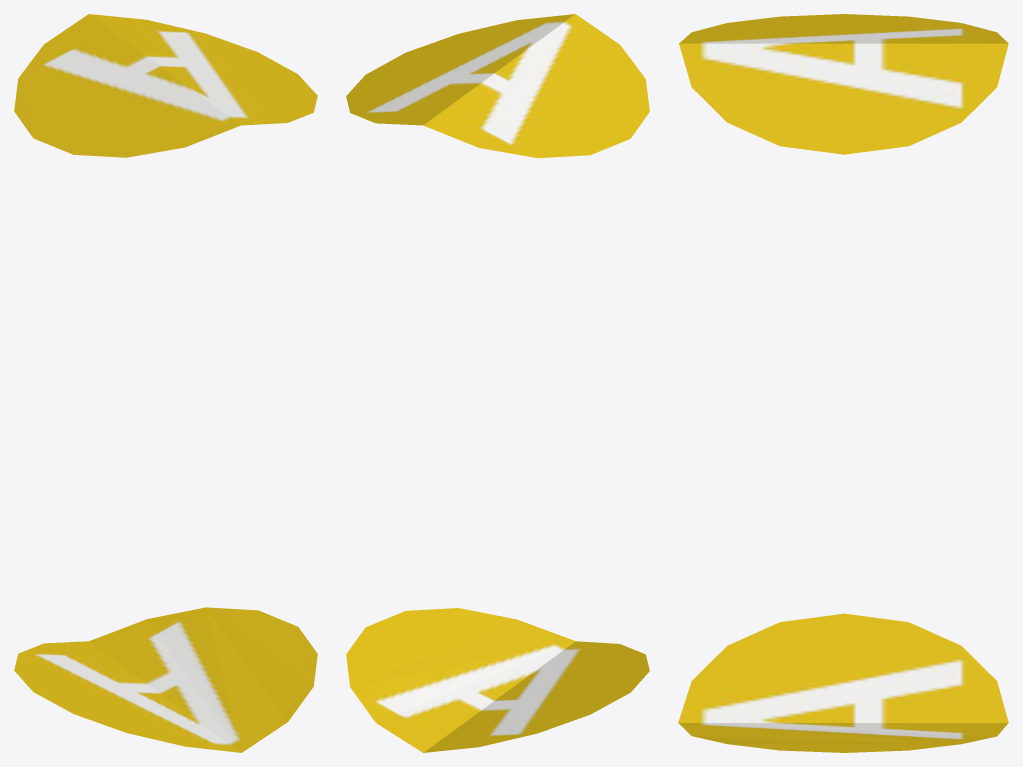
File: mp-3650-geode.glb
The picture shows the model from 3 angles, left to right: view 1: azimuth 30°, elevation 25°; view 2: azimuth 150°, elevation 25°; view 3: azimuth 270°, elevation 25°; orthographic projection. The views are drawn at different scales.
Parts seen in each view (by area): view 1: Node; view 2: Node; view 3: Node.
Part boxes in pixels (x1,y1,x2,y2): Node: (14, 14, 317, 752); Node: (346, 14, 649, 752); Node: (678, 14, 1008, 752).
Bounding box in the file's own units: 0.1247 × 0.282 × 0.1244.
1 material, 1 textured.
